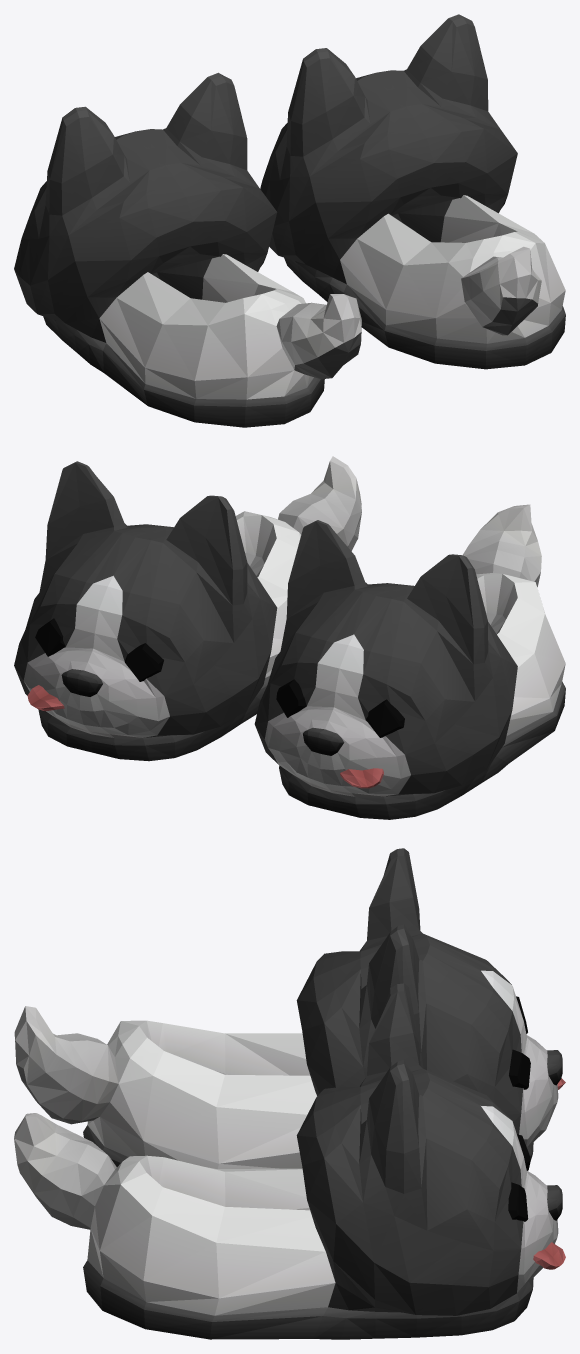
The model's file is CharSkyKid_Feet_OreoSlipper.glb.
3 views of the same model, one above another, from view 1: azimuth 30°, elevation 25°; view 2: azimuth 150°, elevation 25°; view 3: azimuth 270°, elevation 25° (orthographic). The views are drawn at different scales.
Visible parts, largest first — view 1: CharSkyKid_Feet_OreoSlipper; view 2: CharSkyKid_Feet_OreoSlipper; view 3: CharSkyKid_Feet_OreoSlipper.
Boxes of the visible parts, left/top/right/bottom form: CharSkyKid_Feet_OreoSlipper: left=14, top=14, right=565, bottom=427; CharSkyKid_Feet_OreoSlipper: left=14, top=456, right=565, bottom=819; CharSkyKid_Feet_OreoSlipper: left=14, top=848, right=565, bottom=1339.
Size of the model in its own units: 3.57 by 1.7 by 3.16.
Materials: 1 (1 with a texture image).
